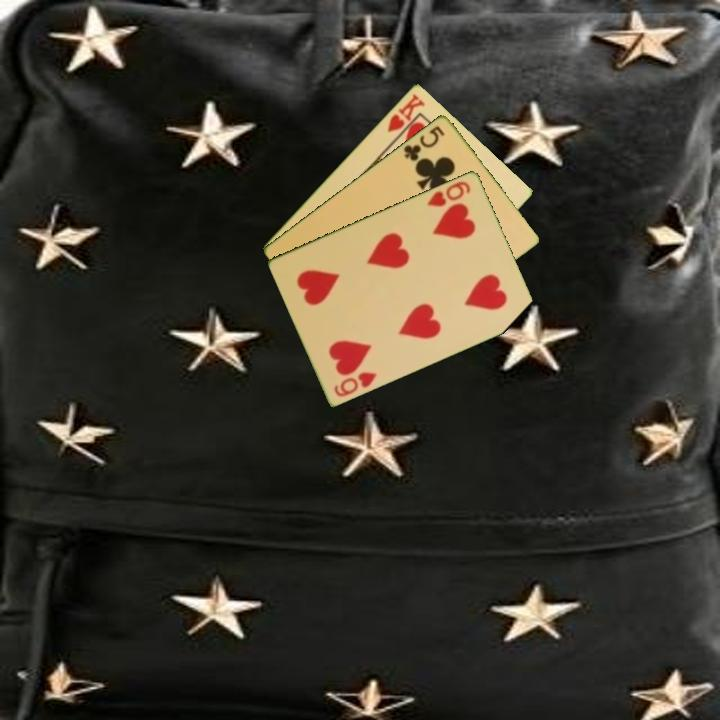5c: (400, 122, 448, 164)
6h: (424, 177, 473, 209), (330, 368, 379, 399)
Kh: (384, 89, 428, 143)
